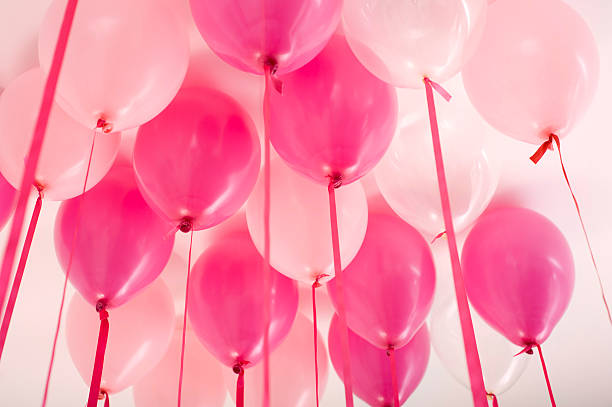Balloon: (38, 1, 191, 132), (464, 1, 598, 146), (264, 41, 396, 186), (134, 84, 259, 230), (56, 171, 176, 304), (463, 207, 573, 346), (1, 70, 117, 199), (331, 215, 437, 350), (190, 235, 299, 363), (340, 1, 487, 88), (190, 1, 341, 71)
